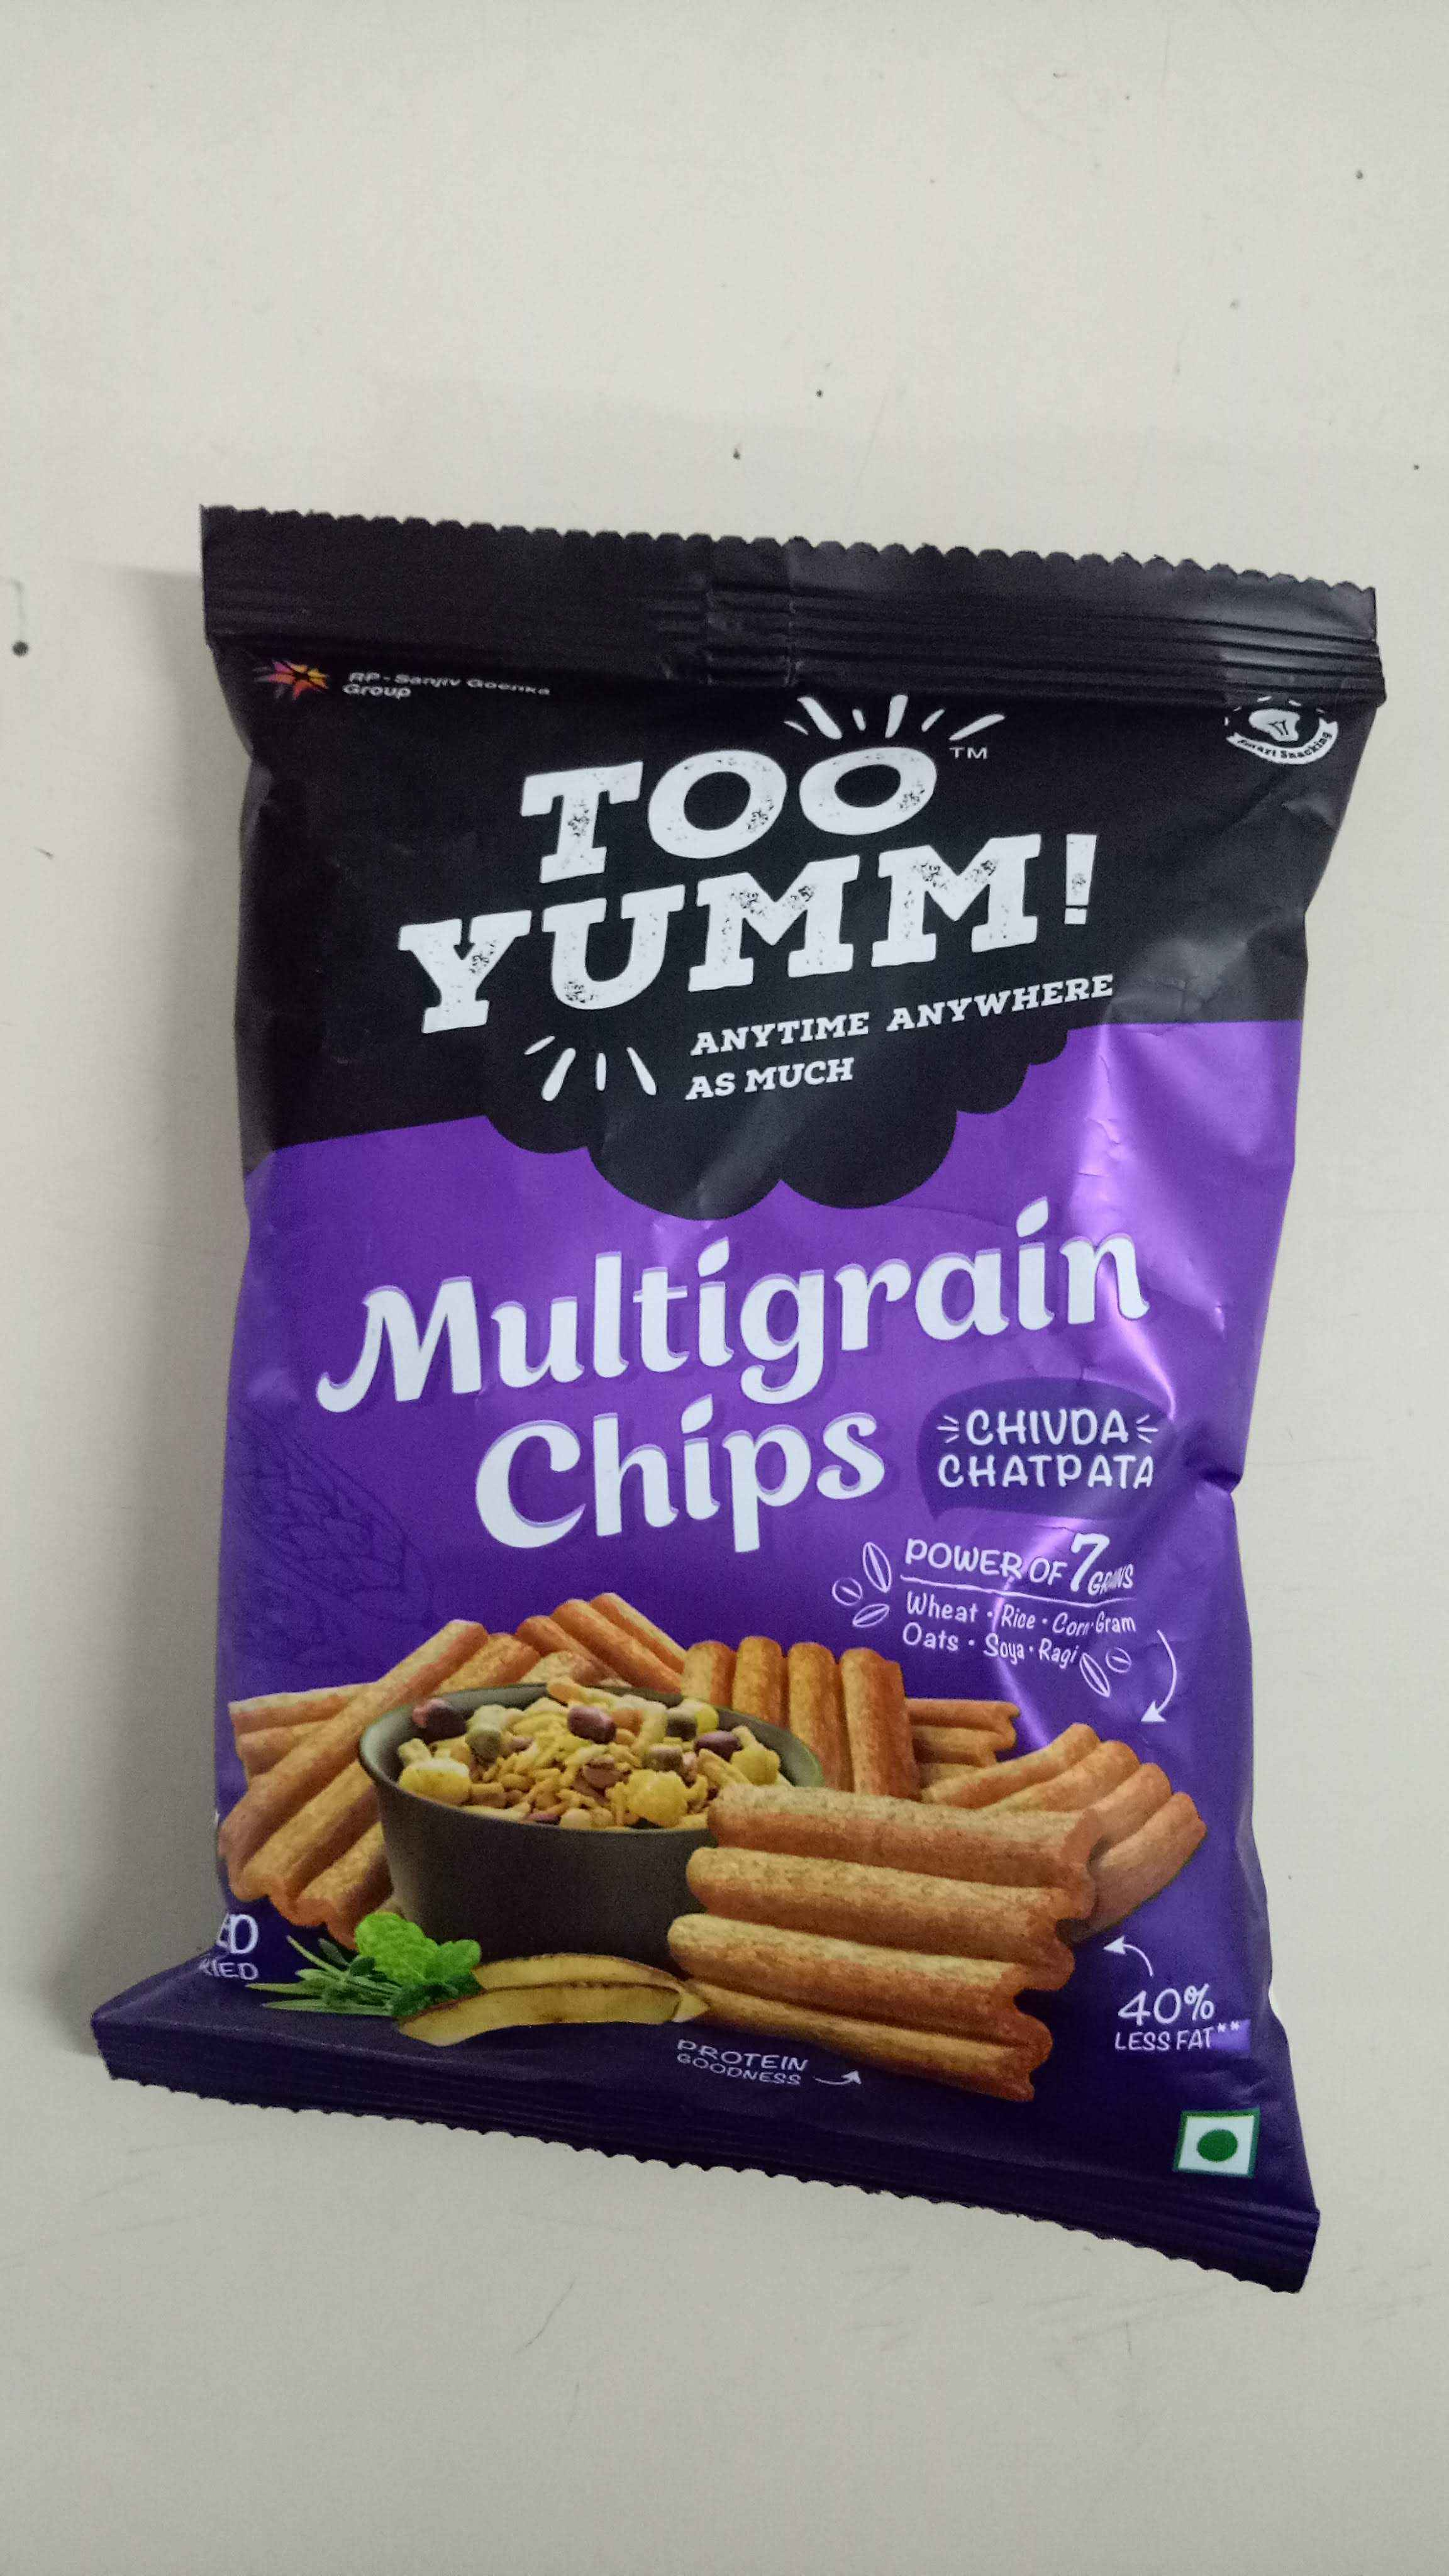tooyumm: (389, 701, 1180, 1086)
